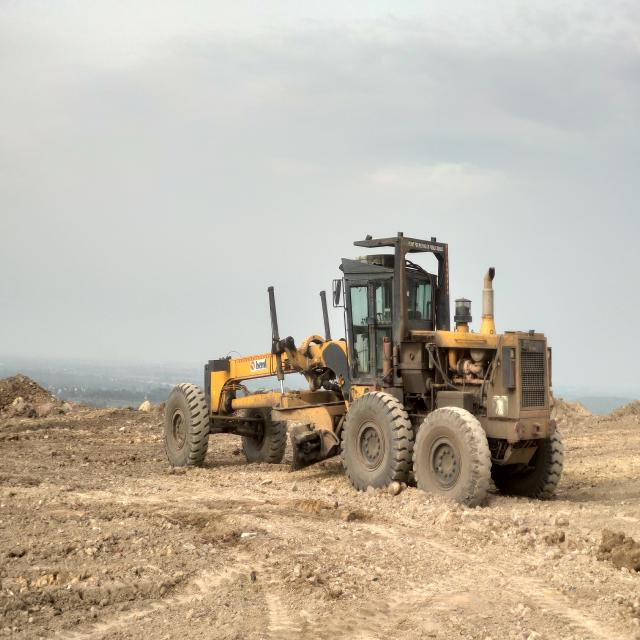buldozerpayloadergrader: (165, 233, 564, 507)
